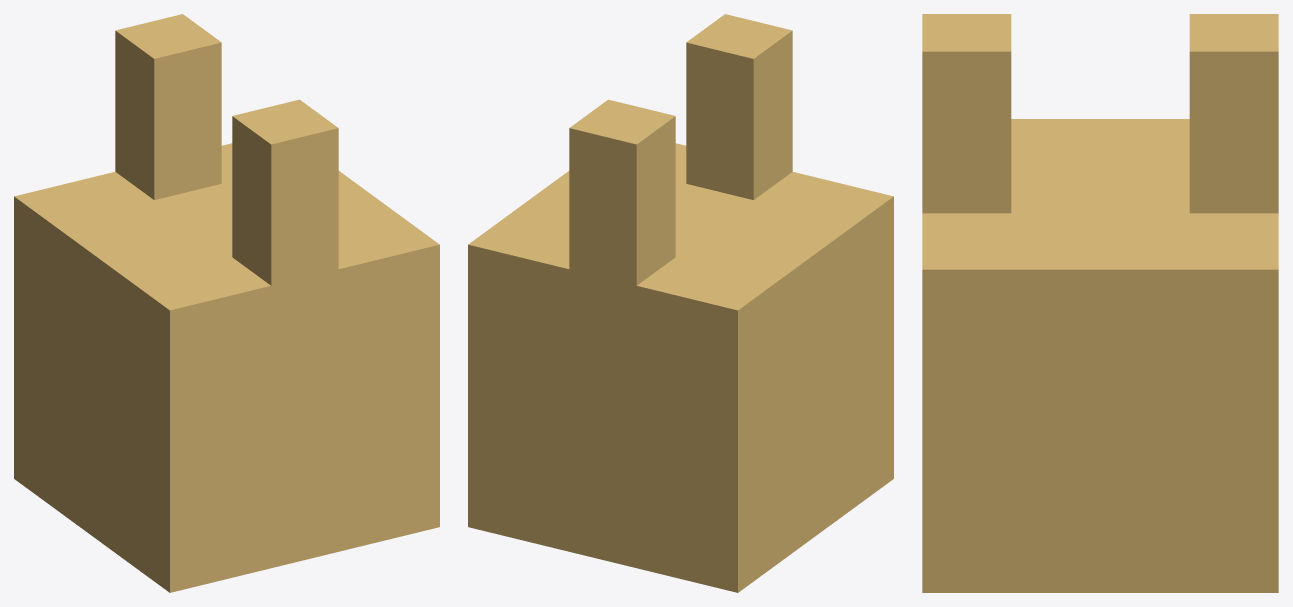
The model's file is CoalGenerator.glb.
The picture shows the model from 3 angles, left to right: view 1: azimuth 30°, elevation 25°; view 2: azimuth 150°, elevation 25°; view 3: azimuth 270°, elevation 25°; orthographic projection. The views are drawn at different scales.
Visible parts, largest first — view 1: Cube, Cube.002, Cube.001; view 2: Cube, Cube.001, Cube.002; view 3: Cube, Cube.001, Cube.002.
Boxes of the visible parts, bbox=[...] form: Cube: bbox=[14, 143, 439, 592]; Cube.002: bbox=[232, 99, 338, 285]; Cube.001: bbox=[115, 14, 221, 199]; Cube: bbox=[468, 143, 893, 592]; Cube.001: bbox=[569, 99, 675, 285]; Cube.002: bbox=[686, 14, 792, 199]; Cube: bbox=[922, 119, 1278, 592]; Cube.001: bbox=[1189, 14, 1278, 213]; Cube.002: bbox=[922, 14, 1011, 213].
Bounding box in the file's own units: 4 × 6 × 4.
